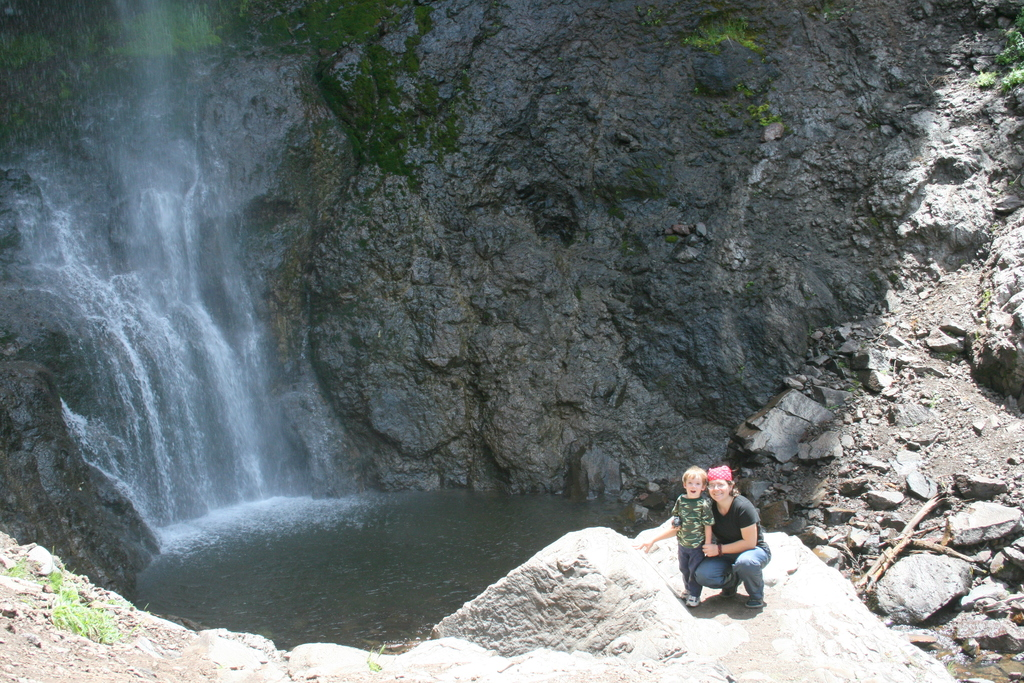Person: (633, 463, 771, 607), (670, 465, 715, 606)
